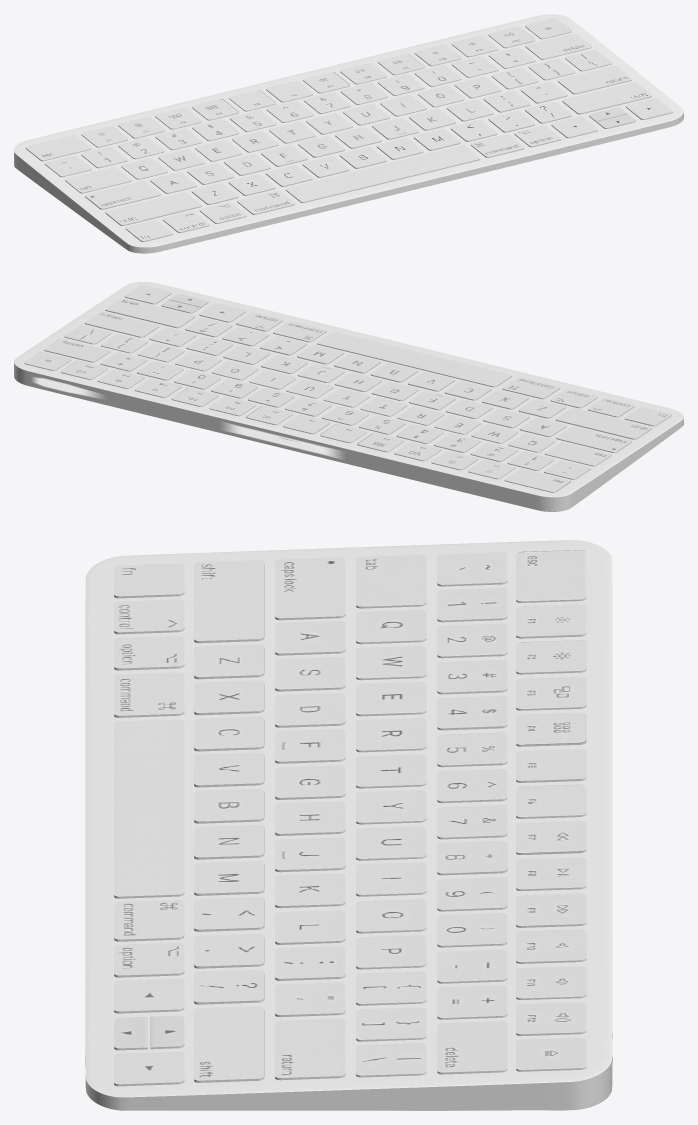
3 views of the same model, one above another, from view 1: azimuth 30°, elevation 25°; view 2: azimuth 150°, elevation 25°; view 3: azimuth 270°, elevation 25° (orthographic). The views are drawn at different scales.
Visible parts, largest first — view 1: KeyboardImac; view 2: KeyboardImac; view 3: KeyboardImac.
Part boxes in pixels (x1,y1,x2,y2): KeyboardImac: [14, 14, 683, 253]; KeyboardImac: [14, 282, 683, 511]; KeyboardImac: [85, 540, 612, 1110].
Size of the model in its own units: 9.64 by 0.264 by 3.96.
Materials: 5 (1 with a texture image).
